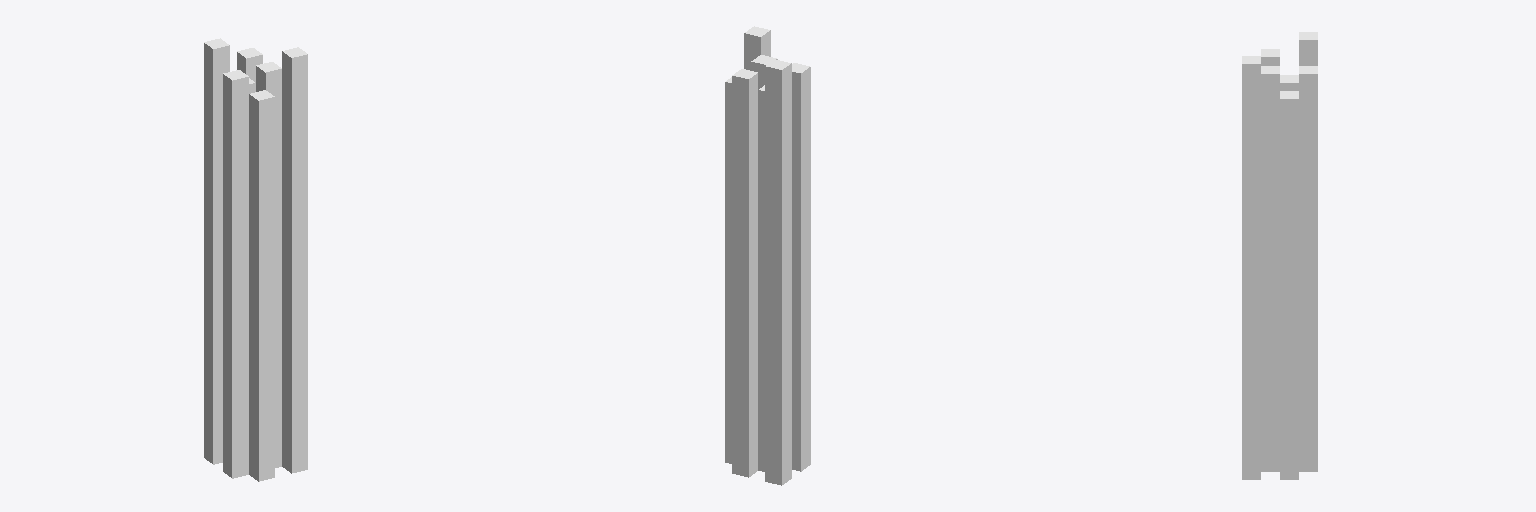
Rendered from WheatWallCorner.obj.
The picture shows the model from 3 angles: view 1: azimuth 30°, elevation 25°; view 2: azimuth 150°, elevation 25°; view 3: azimuth 270°, elevation 25°; orthographic projection.
Parts seen in each view (by area): view 1: object 1; view 2: object 1; view 3: object 1.
Part boxes in pixels (x1,y1,x2,y2): object 1: (204,38,307,481); object 1: (725,26,810,485); object 1: (1242,32,1317,479).
Size of the model in its own units: 0.4 by 2.4 by 0.4.